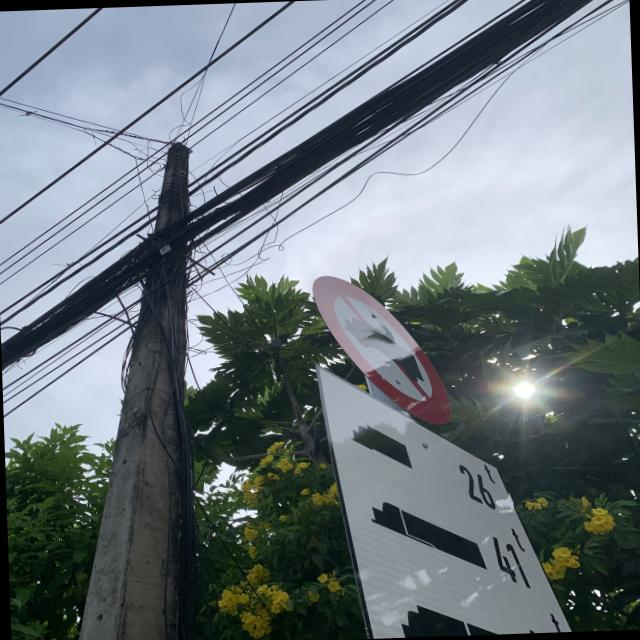Cam_Xe_Tai: (316, 270, 457, 426)
